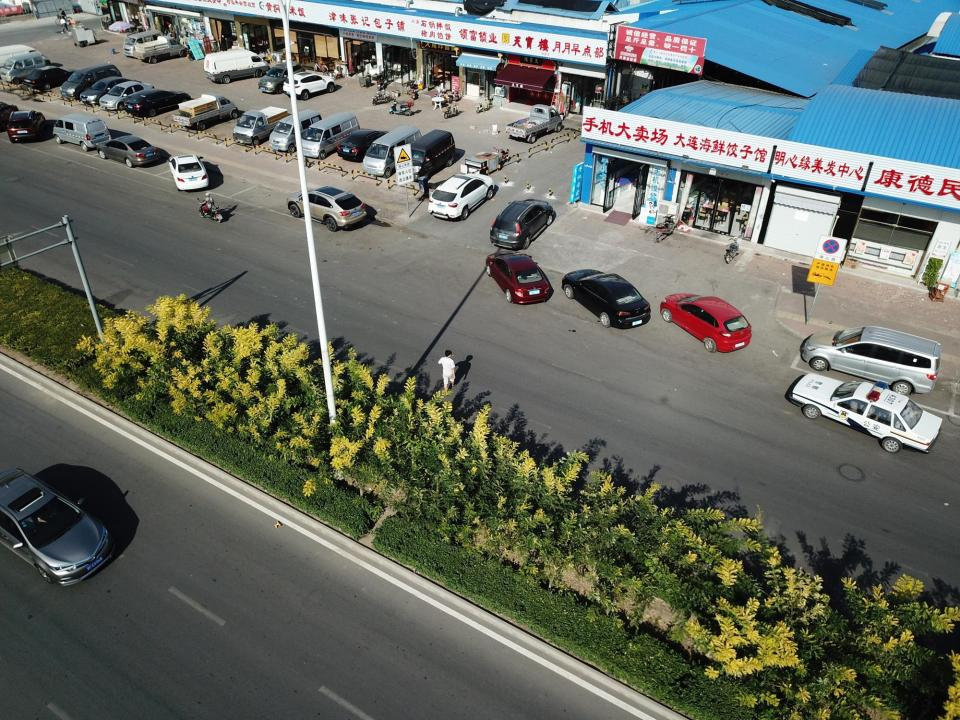car: (0, 468, 115, 588), (785, 372, 944, 455), (659, 292, 753, 354), (561, 268, 652, 329), (286, 184, 367, 232), (485, 250, 550, 306), (488, 198, 556, 251), (427, 173, 494, 222), (96, 134, 161, 168), (123, 89, 192, 118), (337, 127, 393, 161), (98, 80, 156, 112), (79, 75, 139, 105), (258, 60, 306, 95), (166, 154, 209, 192), (282, 72, 336, 102), (6, 109, 46, 143)
truck: (171, 92, 239, 132), (232, 105, 292, 147), (504, 104, 564, 144), (132, 35, 186, 64)
van: (800, 324, 943, 400), (362, 125, 422, 179), (297, 111, 361, 161), (405, 129, 457, 183), (269, 109, 326, 154), (202, 48, 270, 84), (59, 63, 123, 101), (52, 112, 112, 151), (20, 66, 87, 90), (0, 52, 48, 85), (0, 43, 47, 76), (122, 30, 164, 60)
